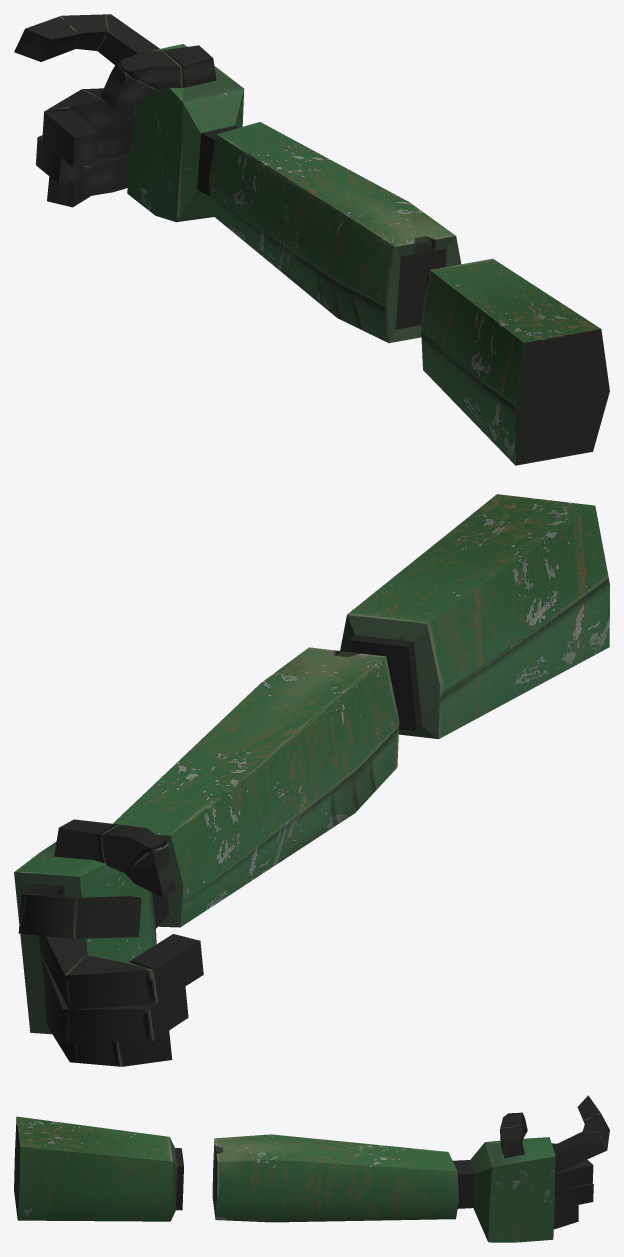
Rendered from Seperated_JUST_arm.fbx.
3 views of the same model, one above another, from view 1: azimuth 30°, elevation 25°; view 2: azimuth 150°, elevation 25°; view 3: azimuth 270°, elevation 25° (orthographic). The views are drawn at different scales.
Parts seen in each view (by area): view 1: Arm; view 2: Arm; view 3: Arm.
Boxes of the visible parts, <box> form: Arm: <box>14,14,609,465</box>; Arm: <box>14,494,609,1066</box>; Arm: <box>14,1095,609,1242</box>.
Size of the model in its own units: 0.1256 by 0.1231 by 0.6236.
1 material, 1 textured.
